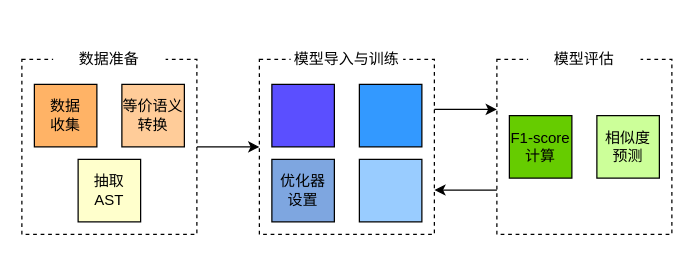
This 694x256 diagram has some shape labels left out. Each missing label, with the centre of its shape:
"模型 导入" goes at [302,115].
"超参数 调整" goes at [390,115].
"迭代 训练" goes at [390,190].
